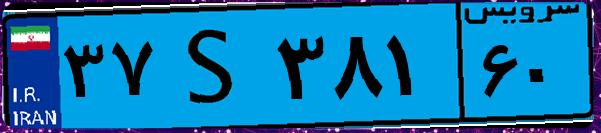0: (525, 38, 570, 115)
1: (385, 28, 445, 110)
3: (270, 28, 330, 110), (57, 26, 110, 100)
6: (475, 38, 525, 113)
7: (110, 28, 158, 98)
8: (330, 28, 385, 110)
S: (158, 12, 270, 120)
